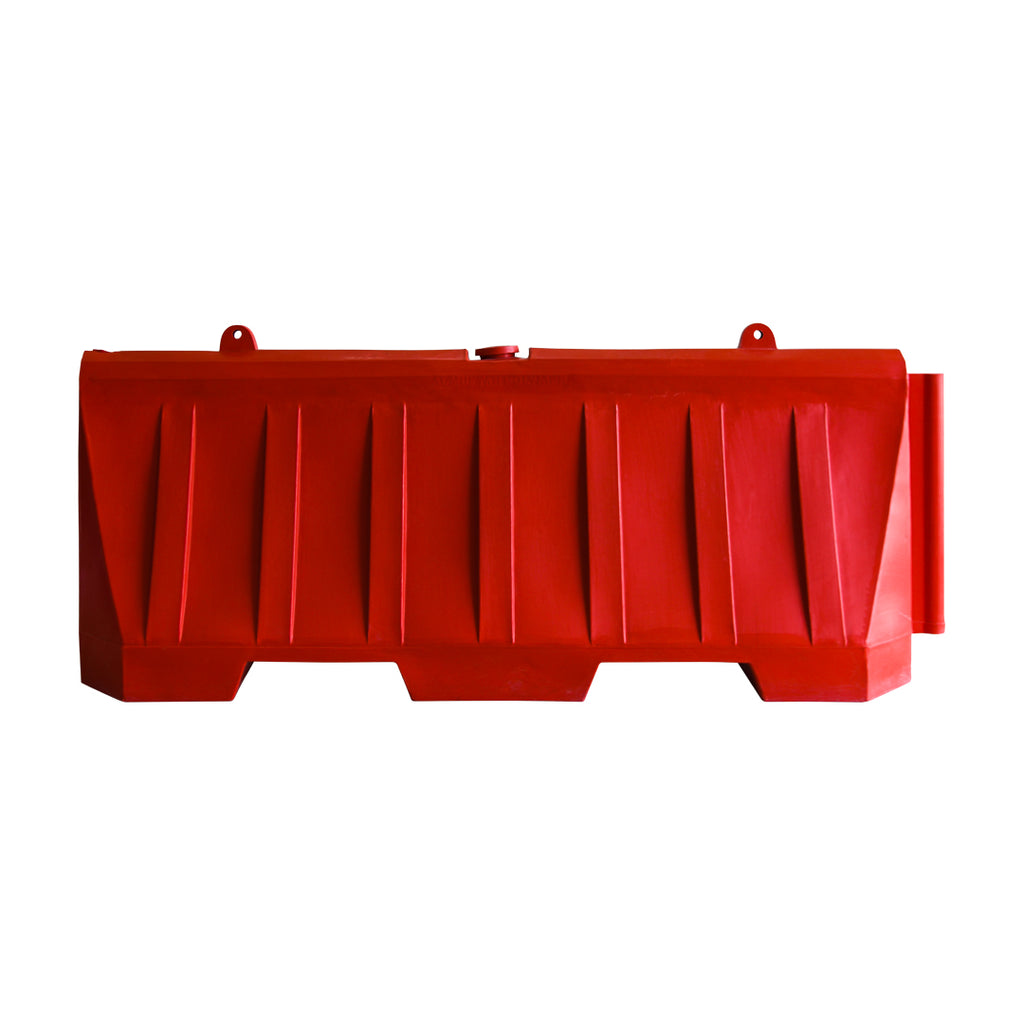Barrier: (29, 310, 951, 719)
